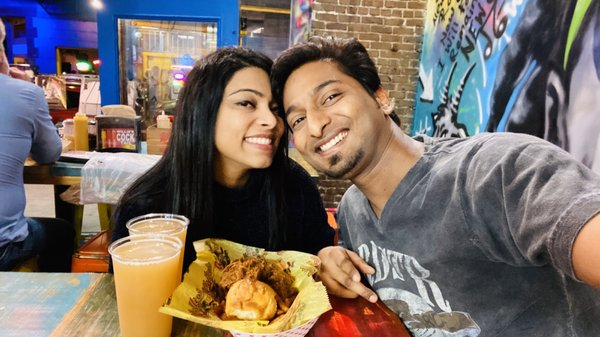pizza: (109, 234, 184, 335), (127, 213, 189, 267)
